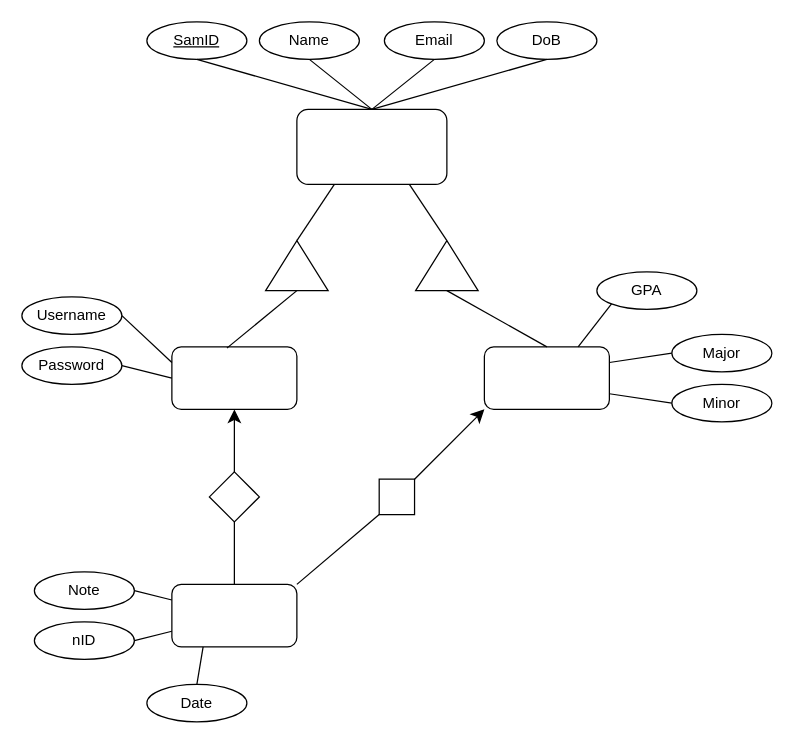
This 794x744 diagram has some shape labels left out. The shapes that lost their labels are listed below. From the top down, each one's centre as x and y in pixels, then its label:
At [371,146]: "Person".
At [234,377]: "Mentor".
At [546,377]: "Student".
At [234,615]: "Notes".
